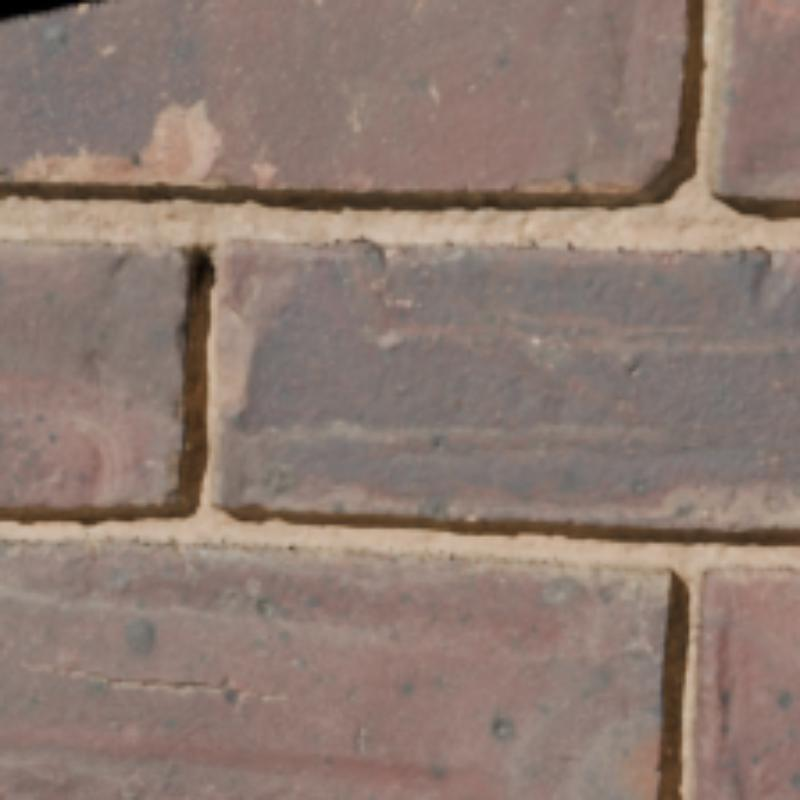pothole: (0, 0, 79, 25)
